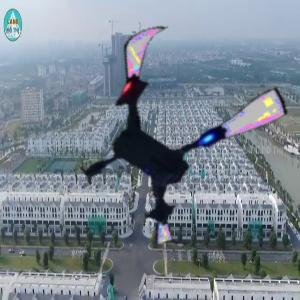drone: (59, 15, 287, 243)
